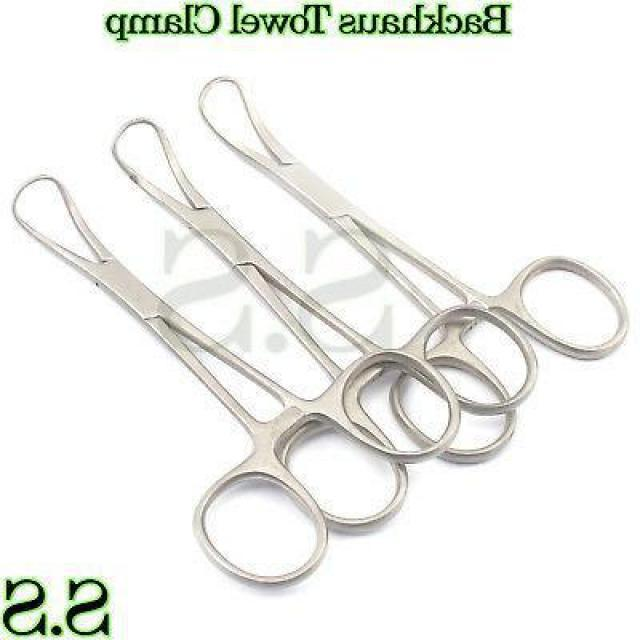Towel_clip: (11, 173, 462, 592), (192, 72, 632, 470), (106, 115, 520, 536)
